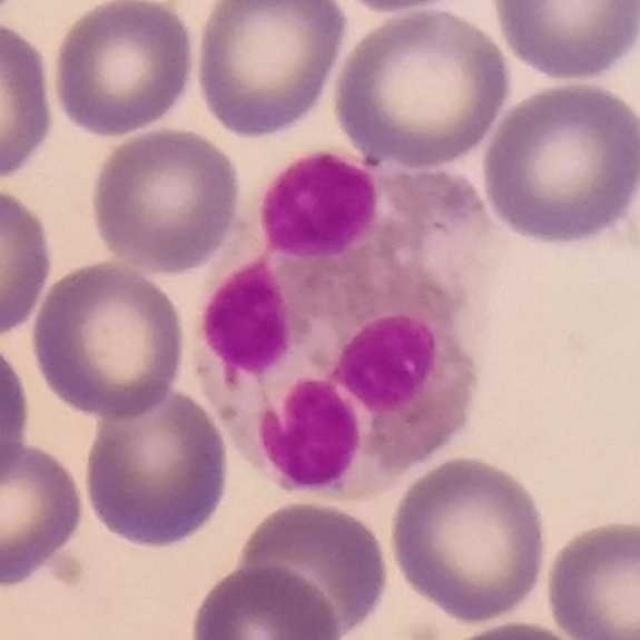eosino: (185, 146, 496, 498)
